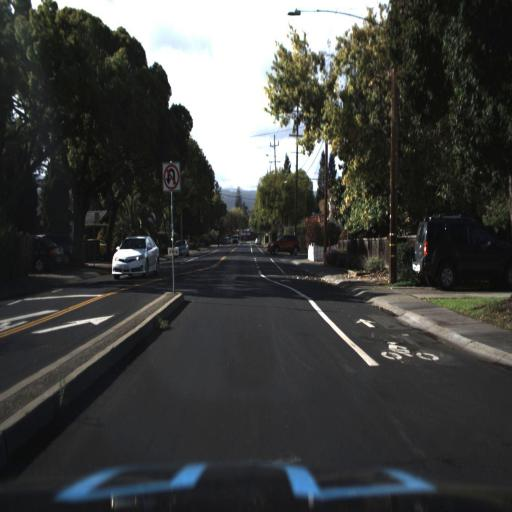car: (402, 202, 511, 291), (107, 225, 162, 285), (20, 230, 64, 281), (265, 231, 302, 258), (172, 235, 190, 256)
